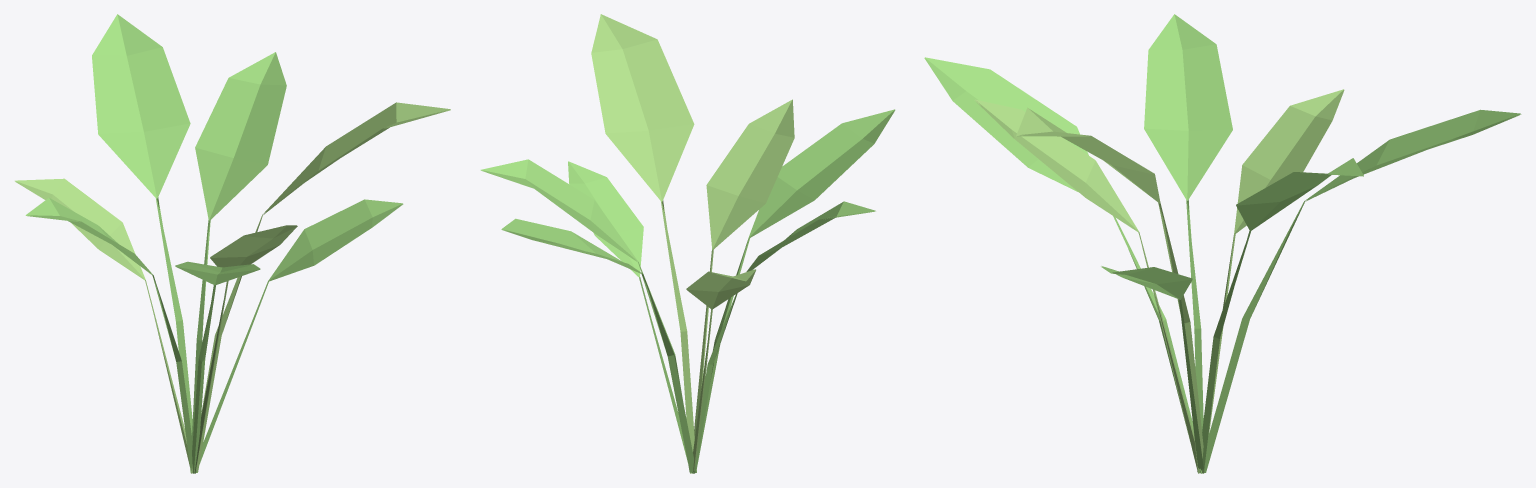
Rendered from smallPlant1.fbx.
3 renders of one model, left to right at view 1: azimuth 30°, elevation 25°; view 2: azimuth 150°, elevation 25°; view 3: azimuth 270°, elevation 25°, orthographic. The views are drawn at different scales.
Visible parts, largest first — view 1: Plant_j_TwoS_05; view 2: Plant_j_TwoS_05; view 3: Plant_j_TwoS_05.
Part boxes in pixels (x1,y1,x2,y2): Plant_j_TwoS_05: [15, 14, 450, 473]; Plant_j_TwoS_05: [480, 14, 895, 473]; Plant_j_TwoS_05: [924, 14, 1521, 473].
Bounding box in the file's own units: 65.68 × 52.29 × 52.98.
1 material, 1 textured.
